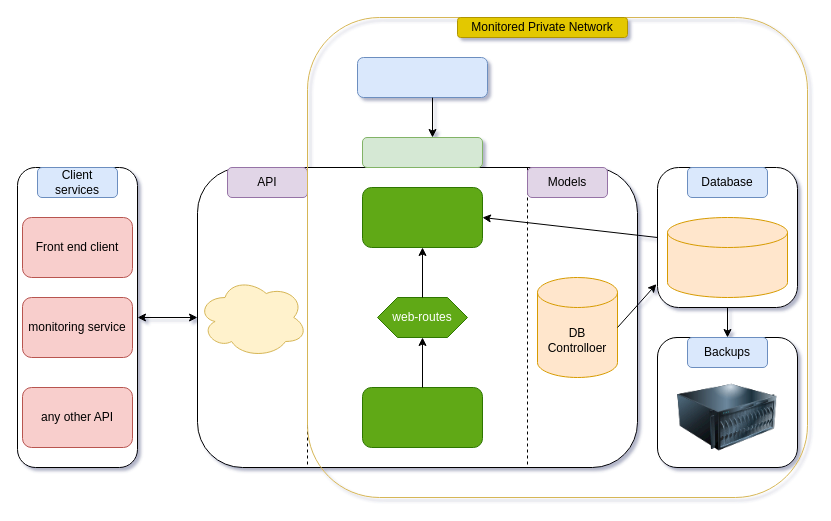
This 831x521 diagram has some shape labels left out. Each missing label, with the centre of its shape:
api-routes: the point at 252,317
Application: the point at 422,152
Controllers: the point at 422,417
Local Storage MongoDB: the point at 727,257
Users / Admins Front end of server side: the point at 422,77
Views: the point at 422,217
